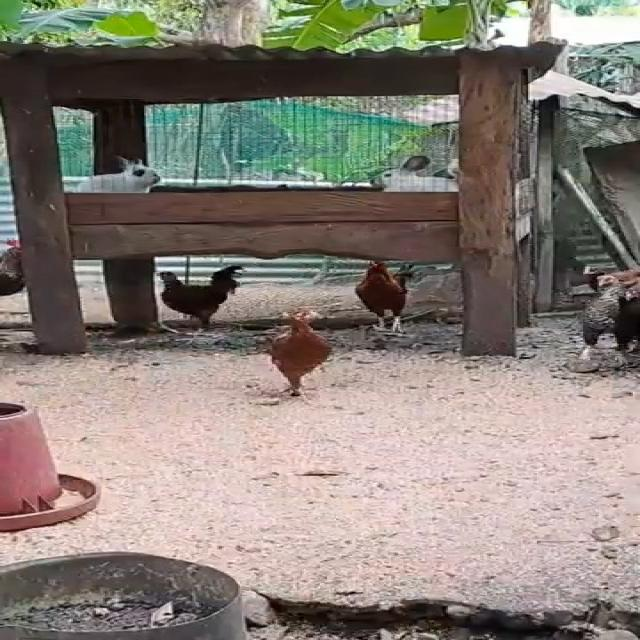running: (246, 300, 339, 402), (138, 261, 250, 339), (358, 256, 428, 338)
